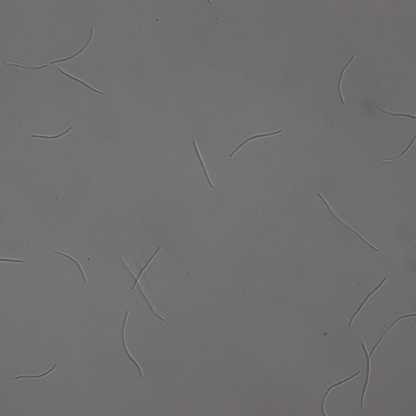Sensitive: (359, 313, 416, 406), (318, 193, 378, 251), (120, 244, 164, 321), (319, 370, 360, 416), (350, 276, 386, 325), (52, 26, 93, 63), (120, 310, 141, 376), (230, 130, 282, 156), (58, 68, 103, 95), (193, 142, 212, 188), (57, 251, 86, 281), (337, 56, 353, 103), (15, 363, 57, 380), (32, 124, 72, 140), (381, 109, 416, 122)
